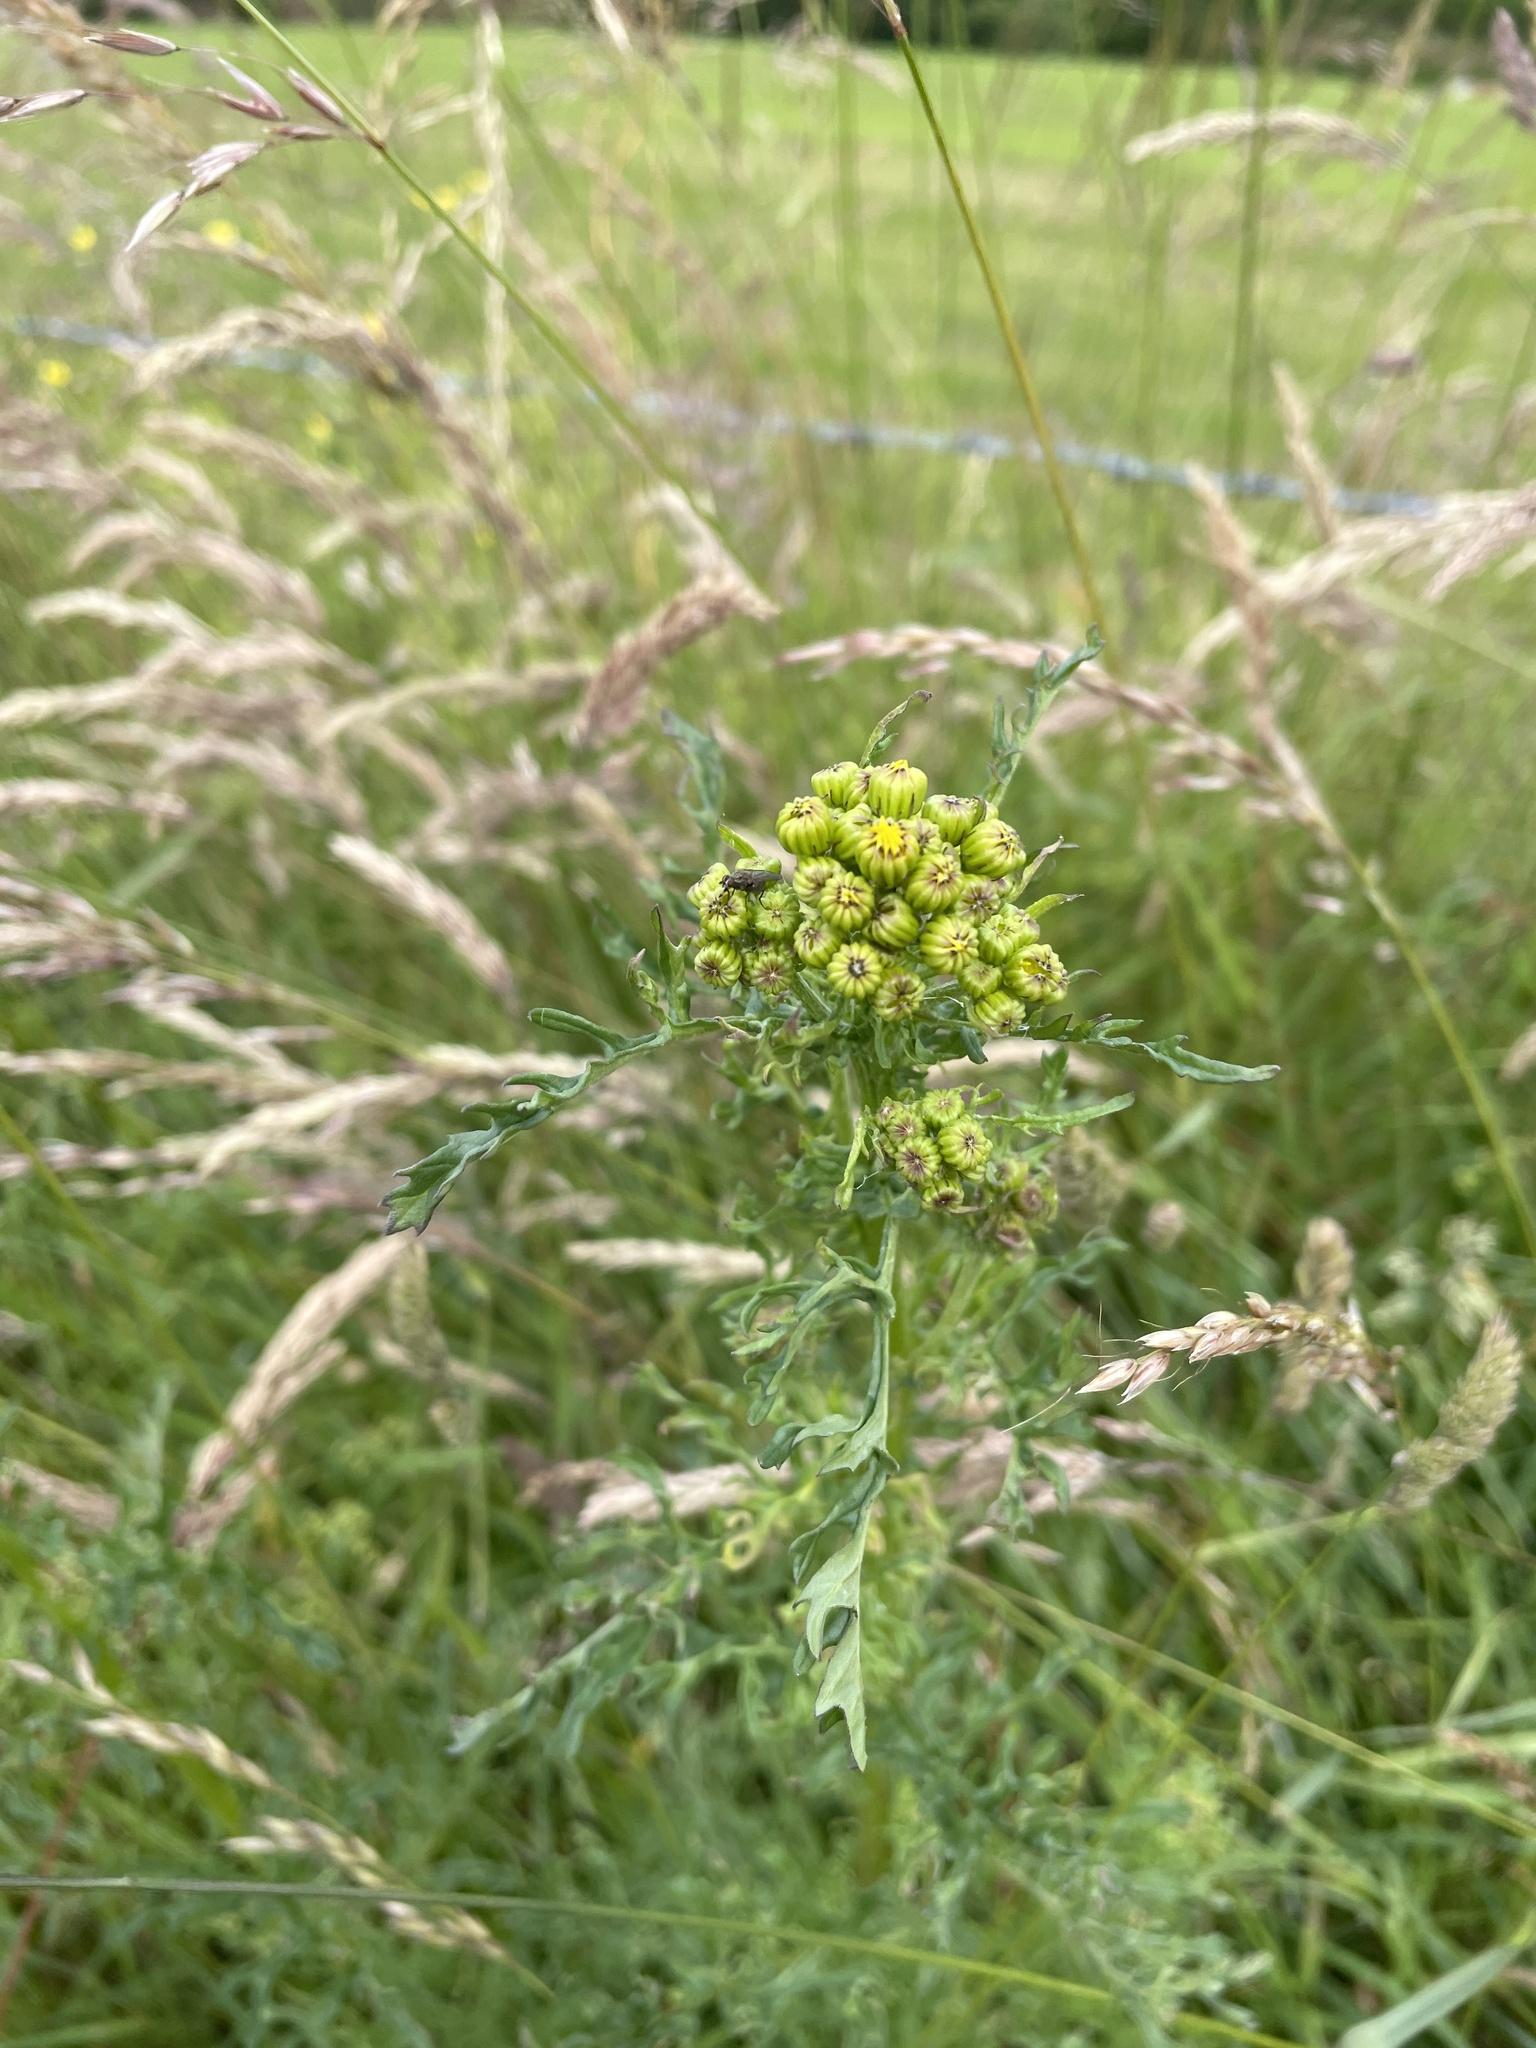Jacobaea vulgaris: (366, 687, 1391, 1813)
